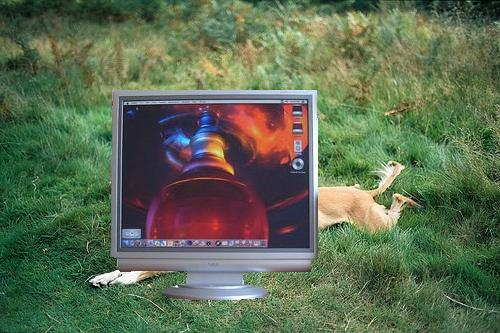tampered: (111, 91, 318, 300)
